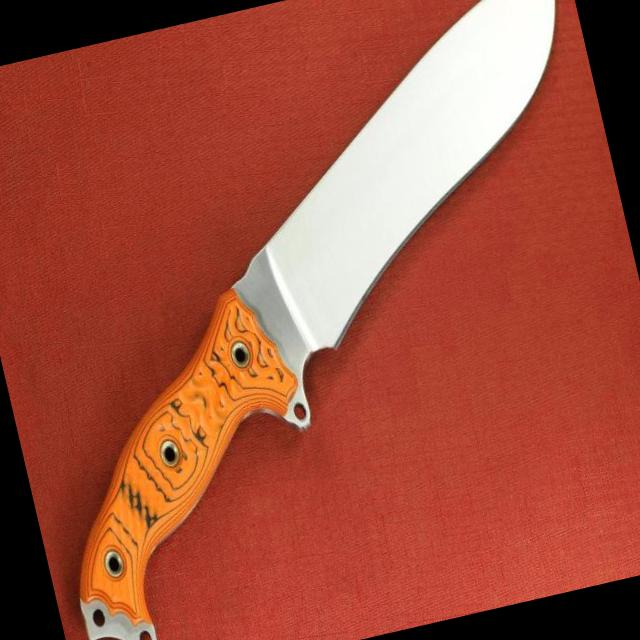Knife: (79, 0, 554, 640)
